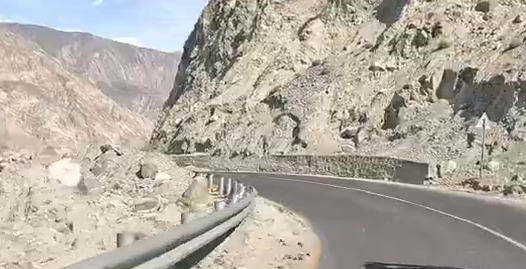right: (255, 156, 526, 261)
